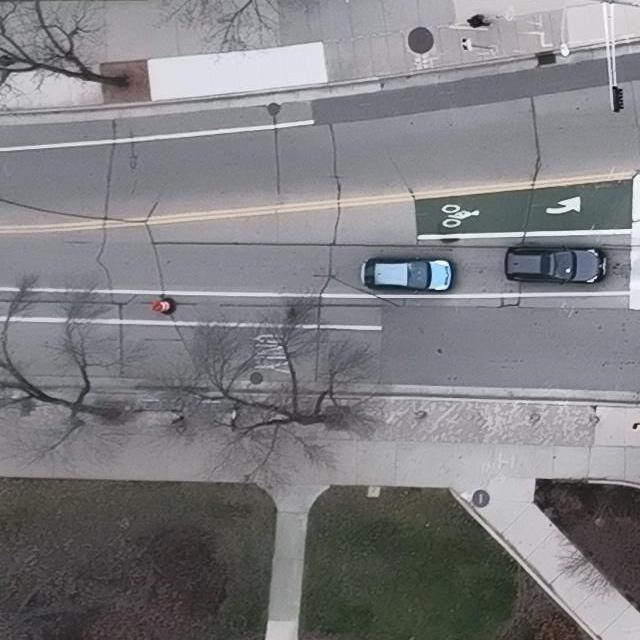car: (504, 243, 608, 285), (361, 256, 455, 294)
